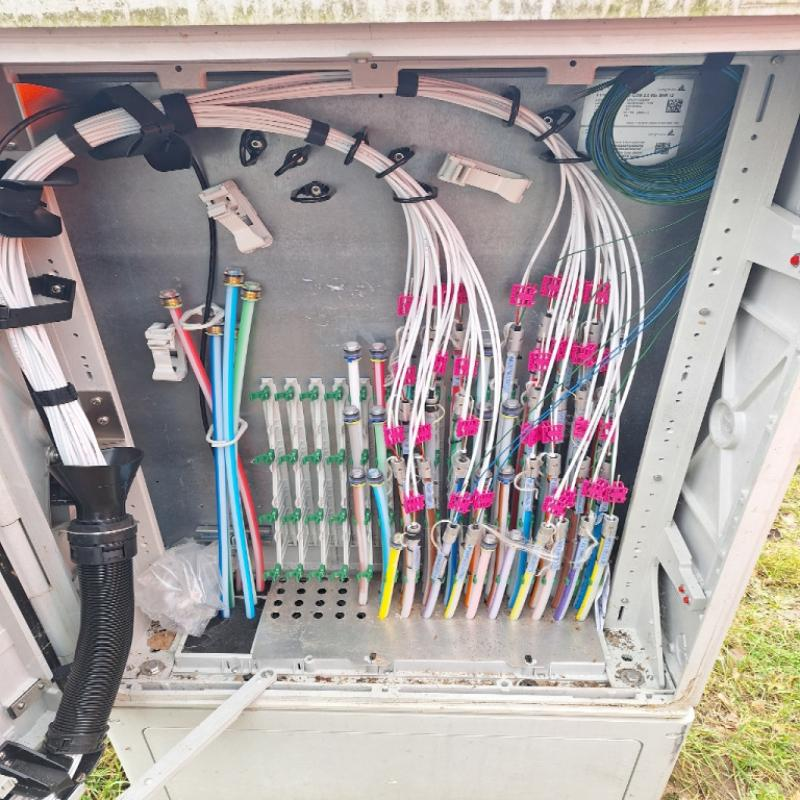NT-Gehause: (0, 0, 797, 791)
